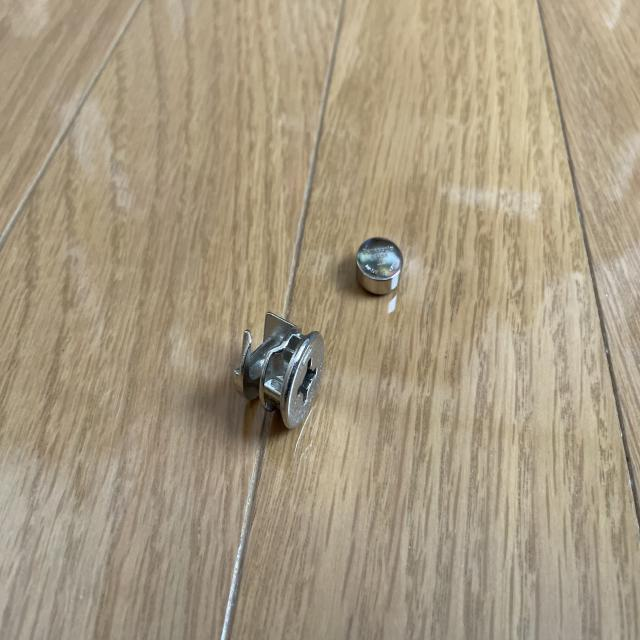COIN: (355, 236, 403, 296)
